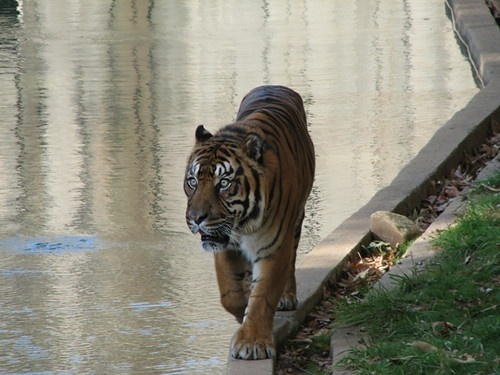tigre: (181, 82, 316, 359)
